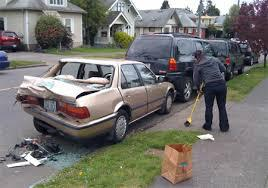Rear-windscreen-Damage: (62, 56, 113, 86)
boot-dent: (21, 71, 88, 101)
